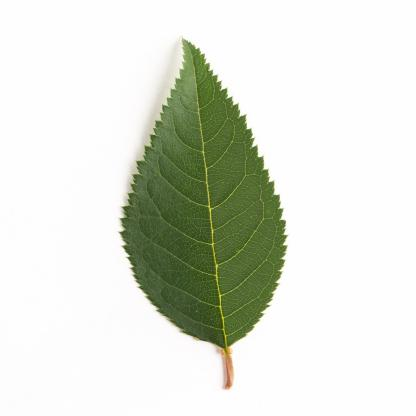cherry leaf: (116, 34, 297, 348)
